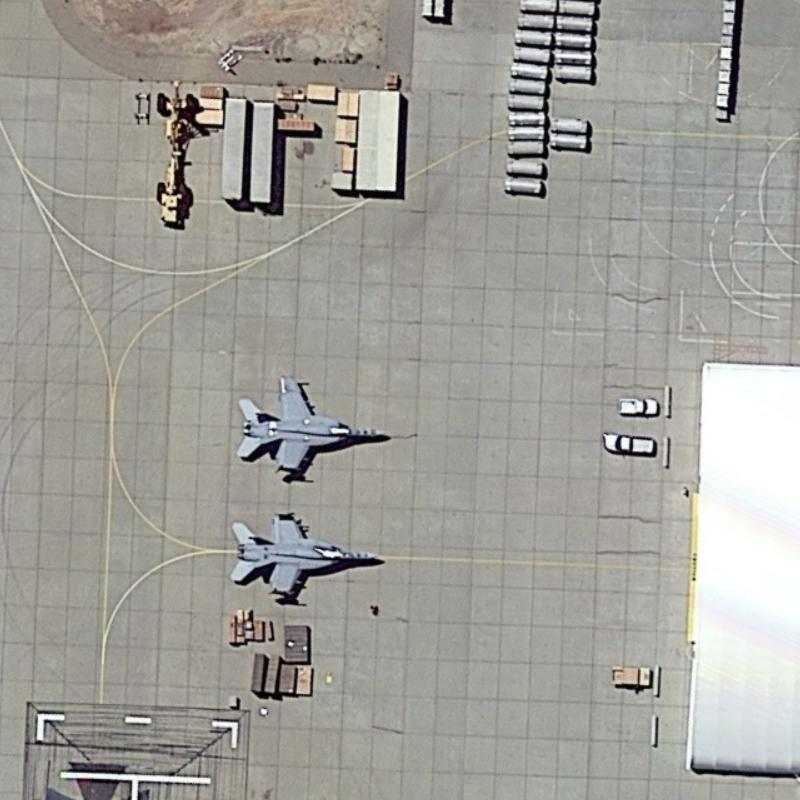A16: (234, 367, 395, 486), (220, 506, 388, 605)
